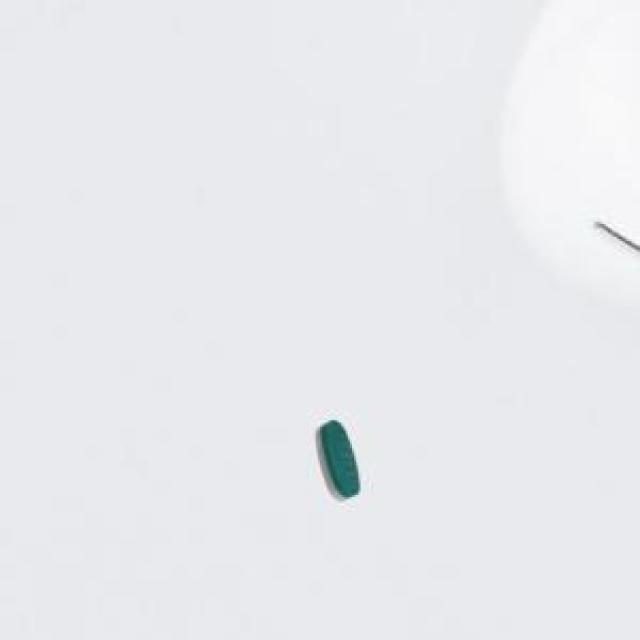Neozep: (302, 402, 380, 520)
